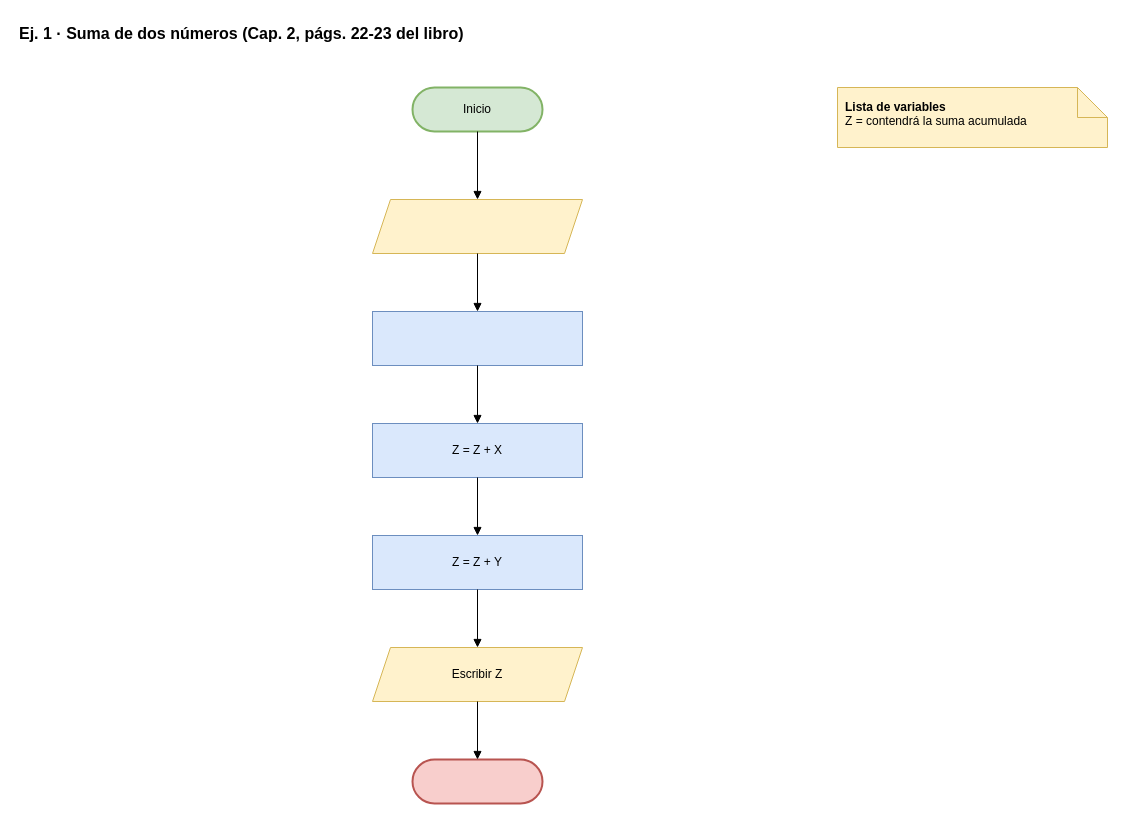
This 1125x821 diagram has some shape labels left out. Here are the shapes that lost their labels. From the top down, the centre of each, then its label:
At point (477, 226): "Leer X, Y".
At point (477, 338): "Z = 0".
At point (477, 781): "Fin".
